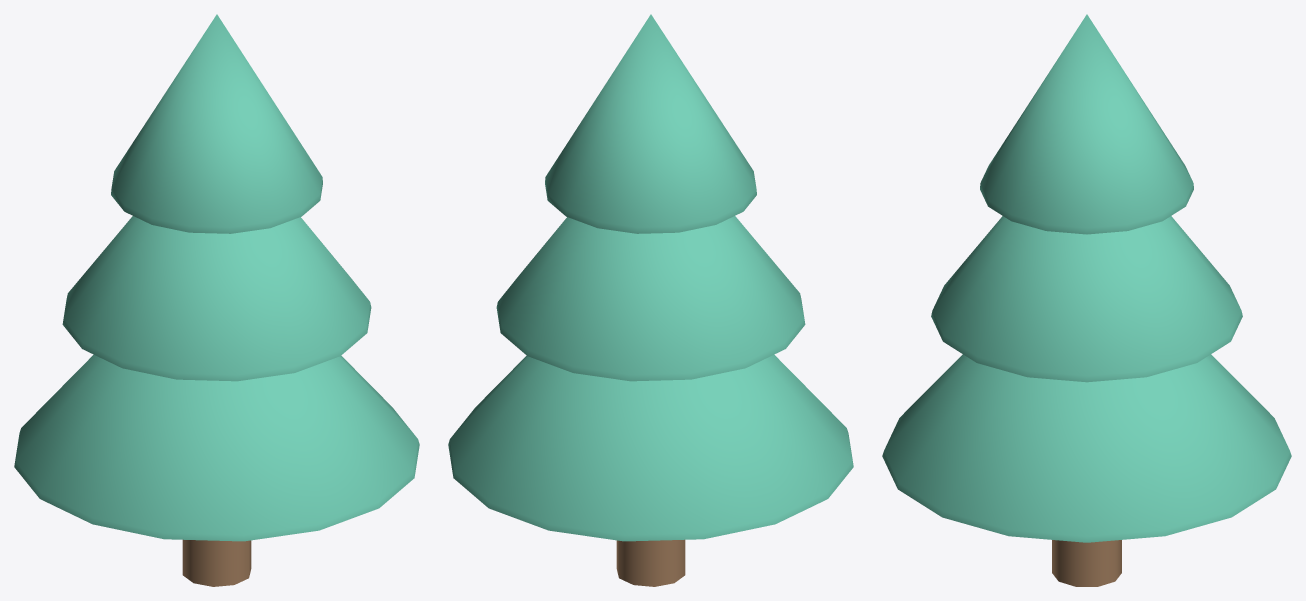
Rendered from pine.glb.
3 views of the same model, side by side, from view 1: azimuth 30°, elevation 25°; view 2: azimuth 150°, elevation 25°; view 3: azimuth 270°, elevation 25° (orthographic).
Visible parts, largest first — view 1: PineLayer0, PineLayer1, PineLayer2, PineTrunk; view 2: PineLayer0, PineLayer1, PineLayer2, PineTrunk; view 3: PineLayer0, PineLayer1, PineLayer2, PineTrunk.
Boxes of the visible parts, x1,y1,x2,y2 form: PineLayer0: (14,354,419,541); PineLayer1: (62,216,371,381); PineLayer2: (111,14,322,233); PineTrunk: (182,539,251,586); PineLayer0: (448,354,853,541); PineLayer1: (496,216,805,381); PineLayer2: (545,14,756,233); PineTrunk: (616,539,685,586); PineLayer0: (882,354,1291,542); PineLayer1: (931,216,1242,382); PineLayer2: (980,14,1193,234); PineTrunk: (1052,540,1121,586).
Size of the model in its own units: 2.92 by 4.4 by 2.92.
